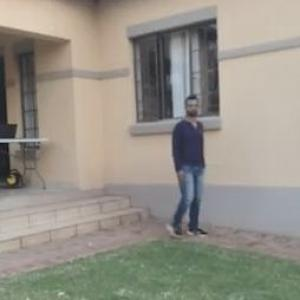follow: (163, 89, 209, 243)
